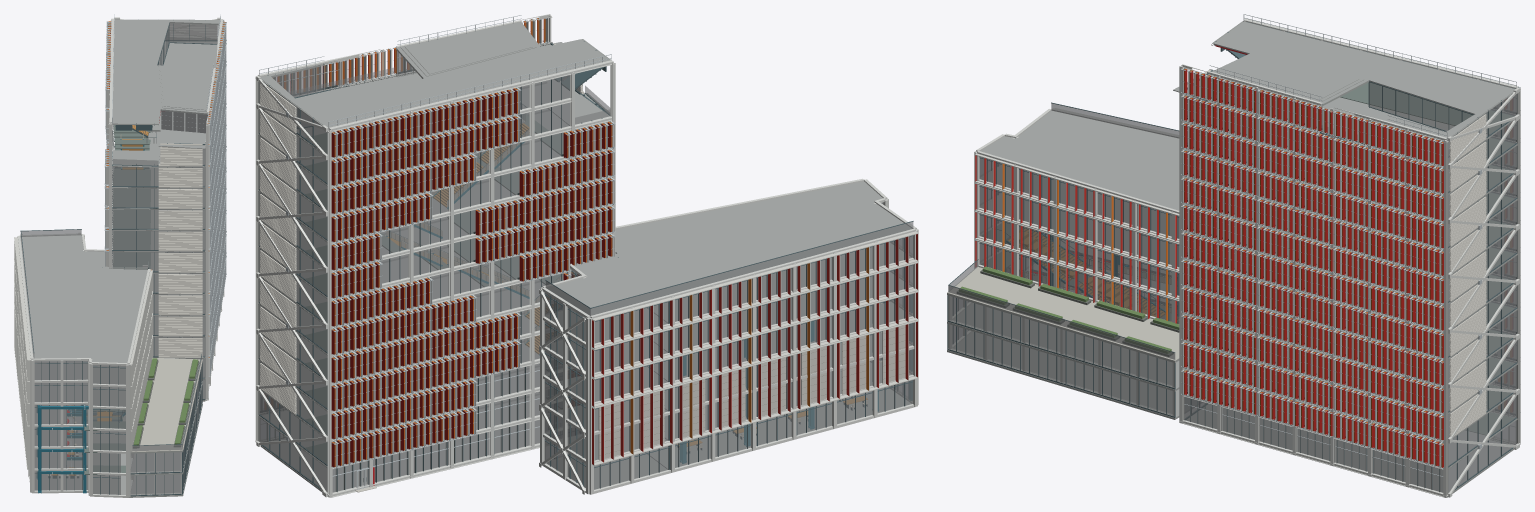
The model's file is cbg-exterior-a4e001594cd5.glb.
The picture shows the model from 3 angles, left to right: view 1: azimuth 30°, elevation 25°; view 2: azimuth 150°, elevation 25°; view 3: azimuth 270°, elevation 25°; orthographic projection. The views are drawn at different scales.
Parts seen in each view (by area): view 1: CBG.001; view 2: CBG.001; view 3: CBG.001.
Part boxes in pixels (<box>): CBG.001: <box>14,14,226,497</box>; CBG.001: <box>255,14,918,497</box>; CBG.001: <box>947,14,1520,497</box>.
Size of the model in its own units: 69.13 by 53.56 by 76.15.
